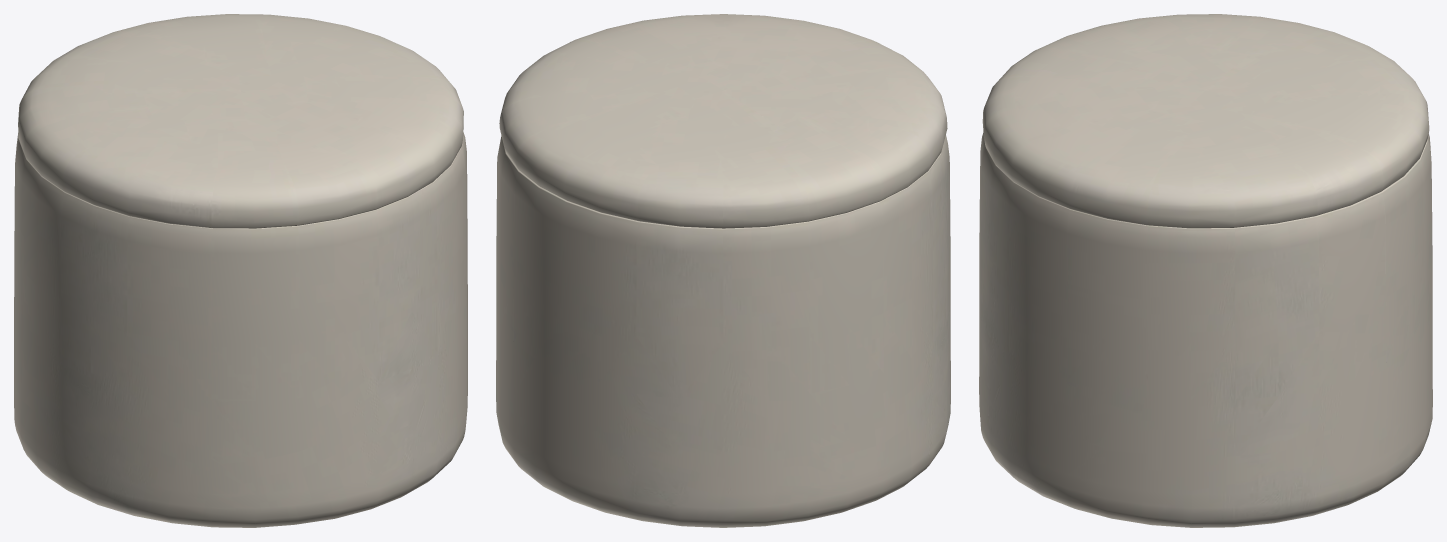
Rendered from lobby_ottoman.glb.
3 renders of one model, left to right at view 1: azimuth 30°, elevation 25°; view 2: azimuth 150°, elevation 25°; view 3: azimuth 270°, elevation 25°, orthographic.
Parts seen in each view (by area): view 1: TesanaFacingY180; view 2: TesanaFacingY180; view 3: TesanaFacingY180.
Boxes of the visible parts, x1,y1,x2,y2 form: TesanaFacingY180: [14, 14, 467, 527]; TesanaFacingY180: [496, 14, 950, 527]; TesanaFacingY180: [979, 14, 1432, 527].
Size of the model in its own units: 0.5236 by 0.45 by 0.5239.
Materials: 1 (1 with a texture image).
